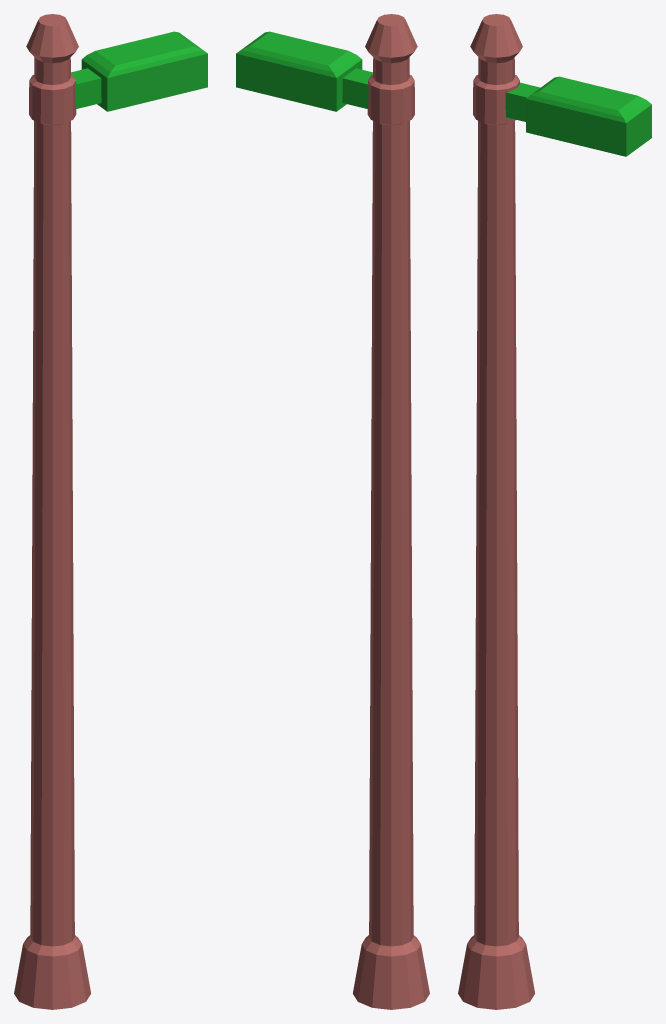
The model's file is lamppost_model.fbx.
The picture shows the model from 3 angles, left to right: view 1: azimuth 30°, elevation 25°; view 2: azimuth 150°, elevation 25°; view 3: azimuth 330°, elevation 25°; orthographic projection.
Parts seen in each view (by area): view 1: lamppost; view 2: lamppost; view 3: lamppost.
Part boxes in pixels (x1,y1,x2,y2): lamppost: (14, 14, 207, 1009); lamppost: (236, 14, 429, 1009); lamppost: (458, 14, 651, 1009).
Size of the model in its own units: 117 by 620 by 44.56.
